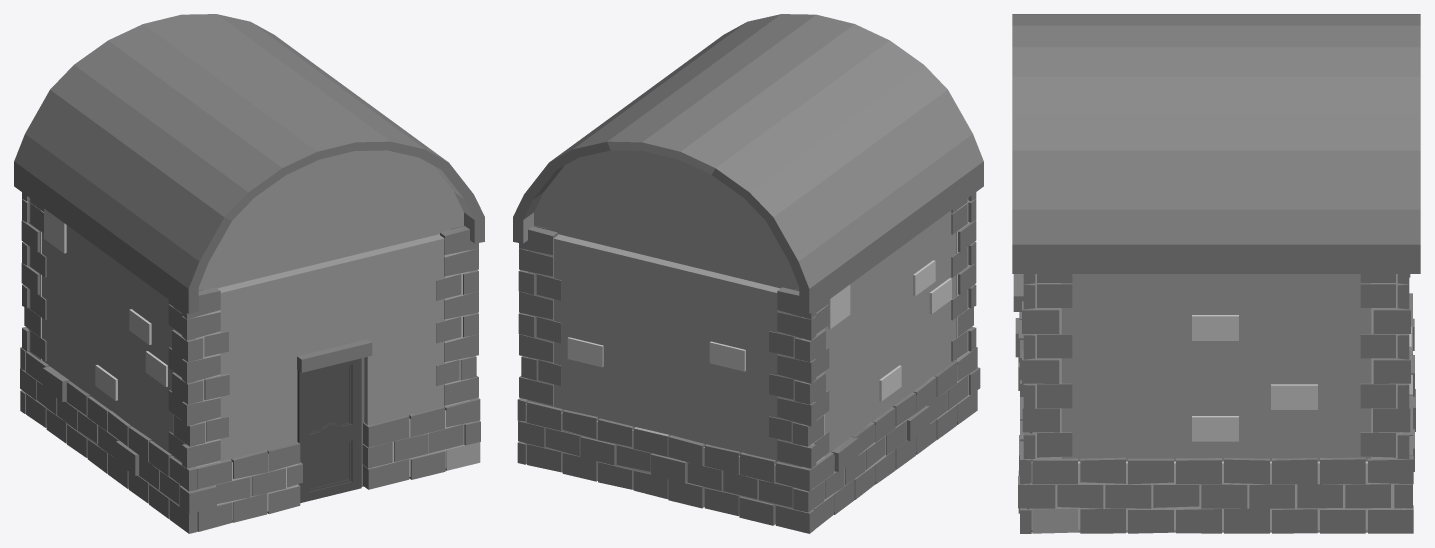
Rendered from qtb_1story_roundroof.fbx.
The picture shows the model from 3 angles, left to right: view 1: azimuth 30°, elevation 25°; view 2: azimuth 150°, elevation 25°; view 3: azimuth 270°, elevation 25°; orthographic projection. The views are drawn at different scales.
Visible parts, largest first — view 1: qtb_1story_roundroof_LOD0; view 2: qtb_1story_roundroof_LOD0; view 3: qtb_1story_roundroof_LOD0.
Part boxes in pixels (bbox=[...]): qtb_1story_roundroof_LOD0: bbox=[14, 14, 484, 533]; qtb_1story_roundroof_LOD0: bbox=[513, 14, 983, 533]; qtb_1story_roundroof_LOD0: bbox=[1012, 14, 1420, 533].
Size of what is drawn, in the model's own units: 5.63 by 6.43 by 5.74.
